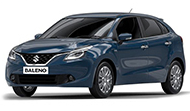car: (4, 9, 186, 100)
